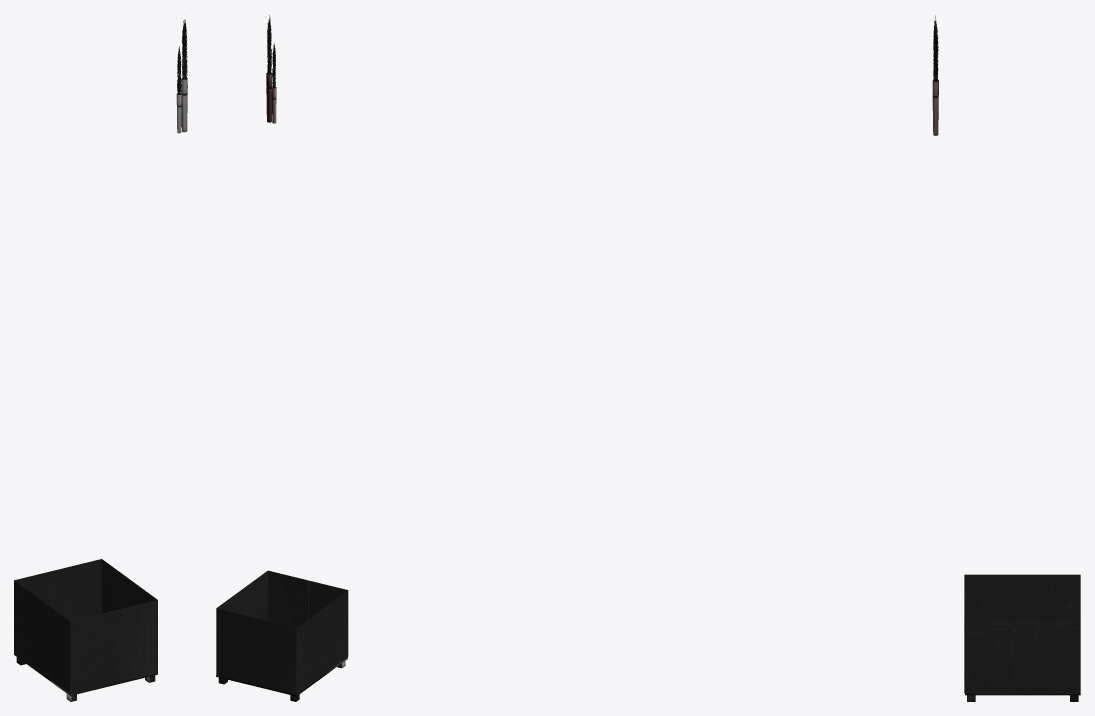
File: BlackCabinet.glb
The picture shows the model from 3 angles, left to right: view 1: azimuth 30°, elevation 25°; view 2: azimuth 150°, elevation 25°; view 3: azimuth 270°, elevation 25°; orthographic projection. The views are drawn at different scales.
Parts seen in each view (by area): view 1: Bathroom.038, Plants, Bathroom.043; view 2: Bathroom.038, Plants; view 3: Bathroom.038.
Part boxes in pixels (box(x1,y1,x2,y2)): Bathroom.038: box(14, 559, 157, 694); Plants: box(176, 19, 187, 133); Bathroom.043: box(14, 653, 157, 695); Bathroom.038: box(216, 570, 348, 694); Plants: box(266, 15, 276, 123); Bathroom.038: box(964, 574, 1080, 693).
Bounding box in the file's own units: 3.42 × 13.25 × 8.33.
4 materials, 4 textured.
